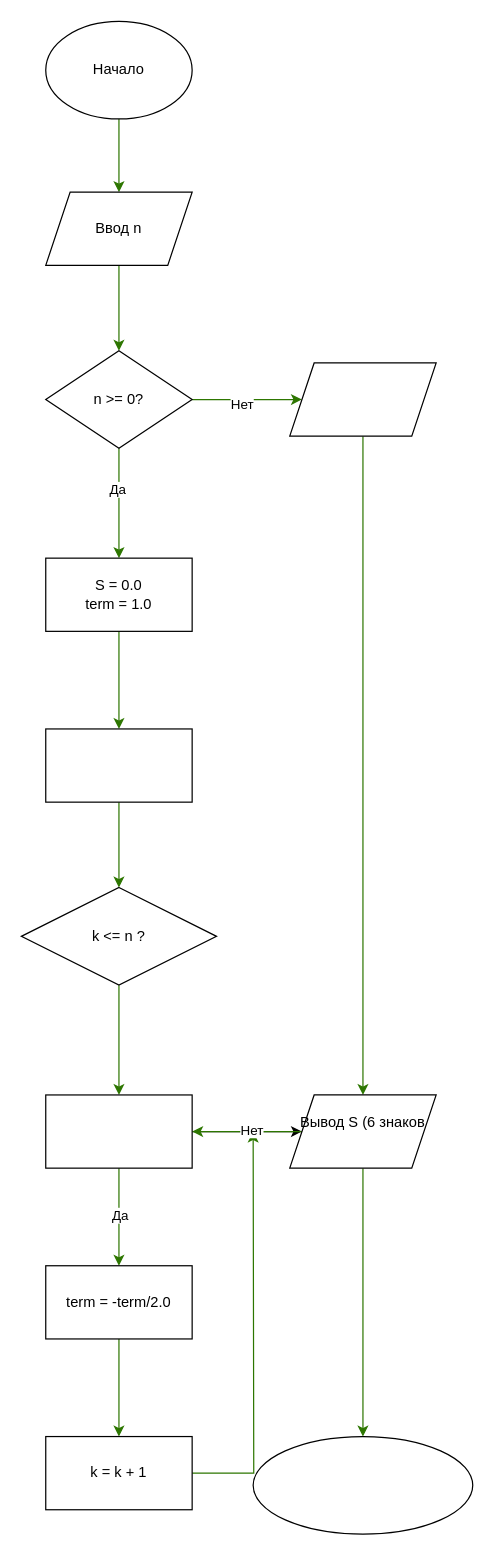
Some shapes in this 494 by 1556 pixel diagram are drawn without their labels. Each missing label, with the centre of its shape:
k = 0: point 118,765
S = S + term: point 118,1131
Конец: point 362,1484
Сообщение об ошибке: point 362,399
